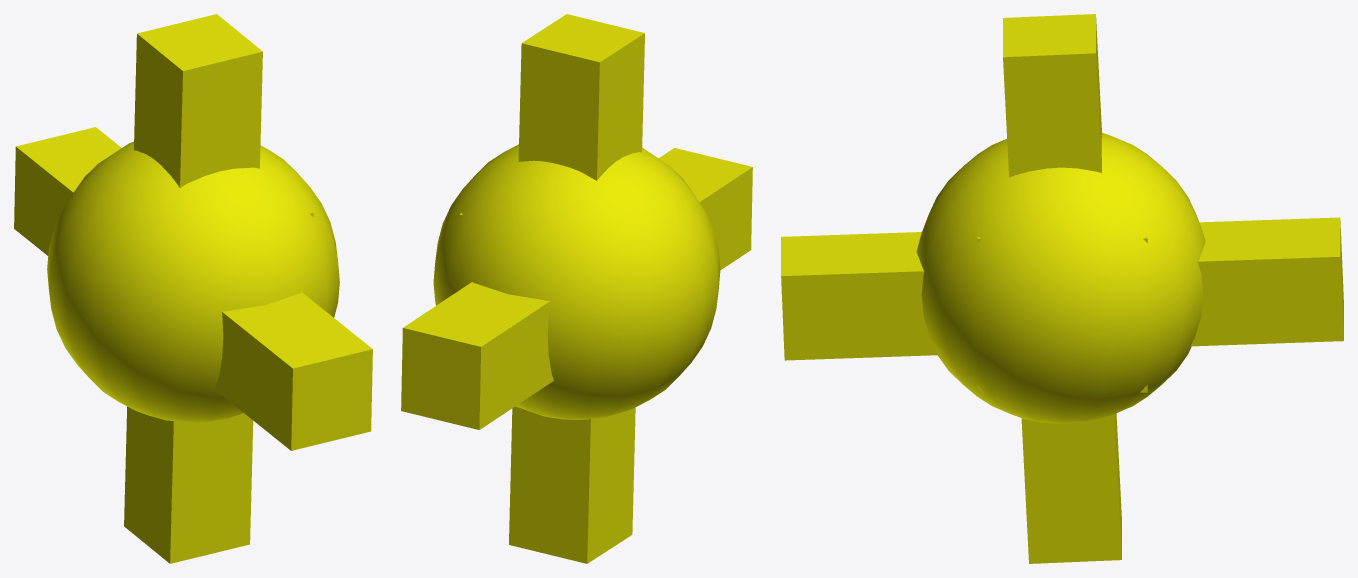
Rendered from sae.fbx.
3 renders of one model, left to right at view 1: azimuth 30°, elevation 25°; view 2: azimuth 150°, elevation 25°; view 3: azimuth 270°, elevation 25°, orthographic. The views are drawn at different scales.
Visible parts, largest first — view 1: pSphere1, pCube2, pCube3; view 2: pSphere1, pCube2, pCube3; view 3: pSphere1, pCube3, pCube2.
Boxes of the visible parts, box(x1,y1,x2,y2) form: pSphere1: box(47, 141, 339, 422); pCube2: box(124, 14, 262, 563); pCube3: box(14, 127, 372, 450); pSphere1: box(433, 144, 720, 419); pCube2: box(509, 14, 644, 563); pCube3: box(401, 148, 752, 429); pSphere1: box(916, 132, 1205, 423); pCube3: box(781, 217, 1343, 360); pCube2: box(1003, 14, 1121, 563).
Bounding box in the file's own units: 3.19 × 6.05 × 6.04.
